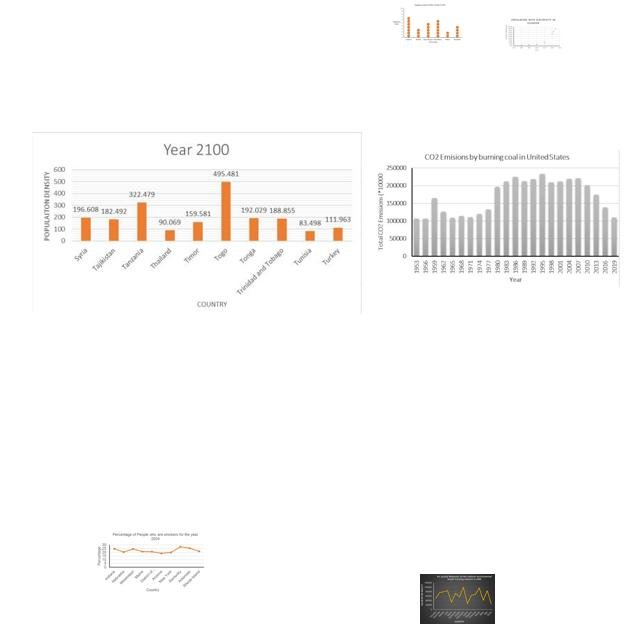Graph: (32, 132, 362, 314), (377, 150, 620, 287), (94, 530, 207, 594), (420, 574, 495, 624), (391, 3, 463, 45), (504, 17, 563, 53)
